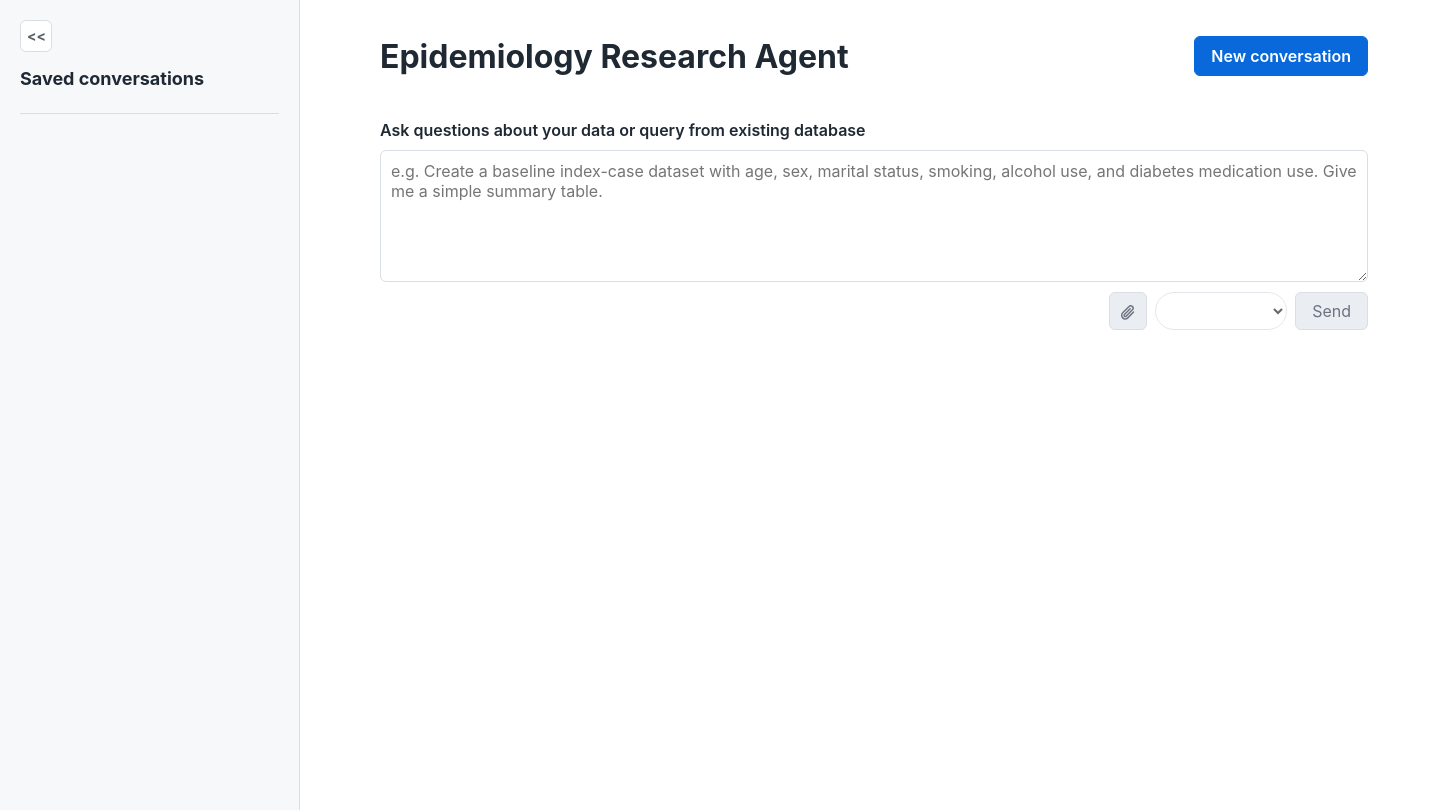
App › shows a safe terminal failure and keeps the composer usable
The width and height of the screenshot is (1440, 810).
Replace the text in the text box named "Ask a question about your dataset!" with "Analyze relapse" at [874, 216], box [380, 150, 1368, 282]
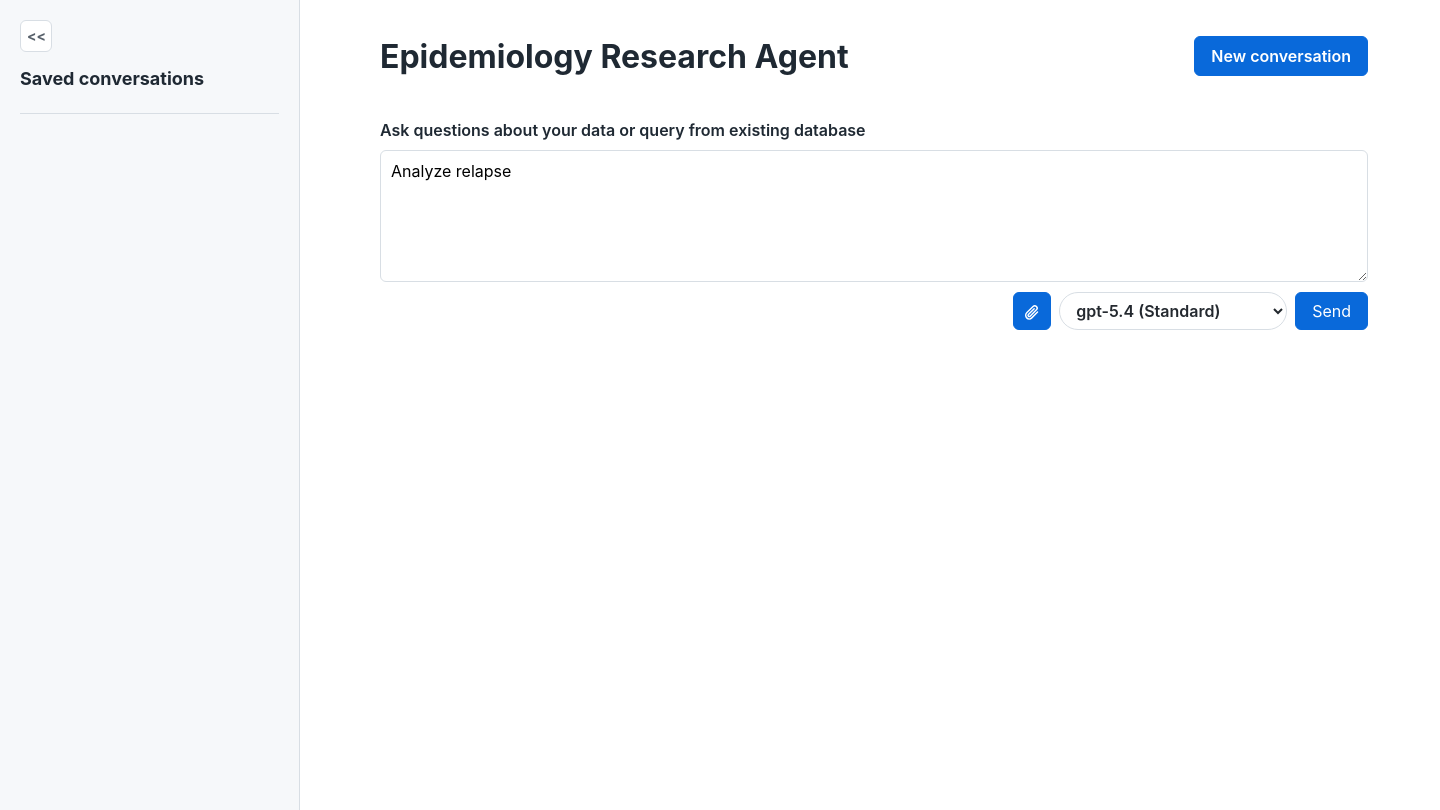
Click the button "Send" at [1332, 311], box [1295, 292, 1368, 330]
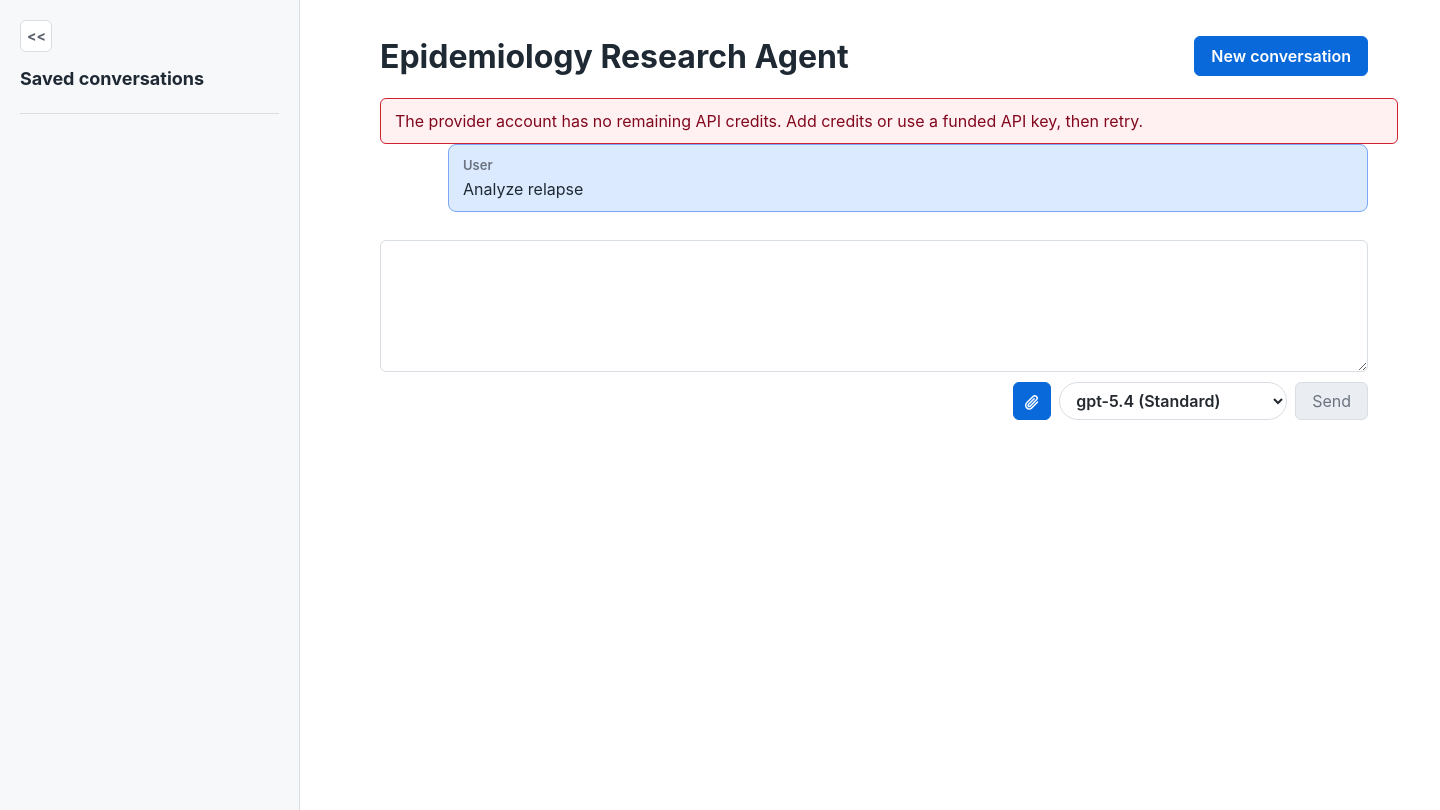
Expected: the text box named "Ask a question about your dataset!" is enabled
Expected: the message shows "no remaining API credits", [395, 111, 1143, 131]
Type "Try again" into the text box named "Ask a question about your dataset!" at [874, 306], box [380, 240, 1368, 372]
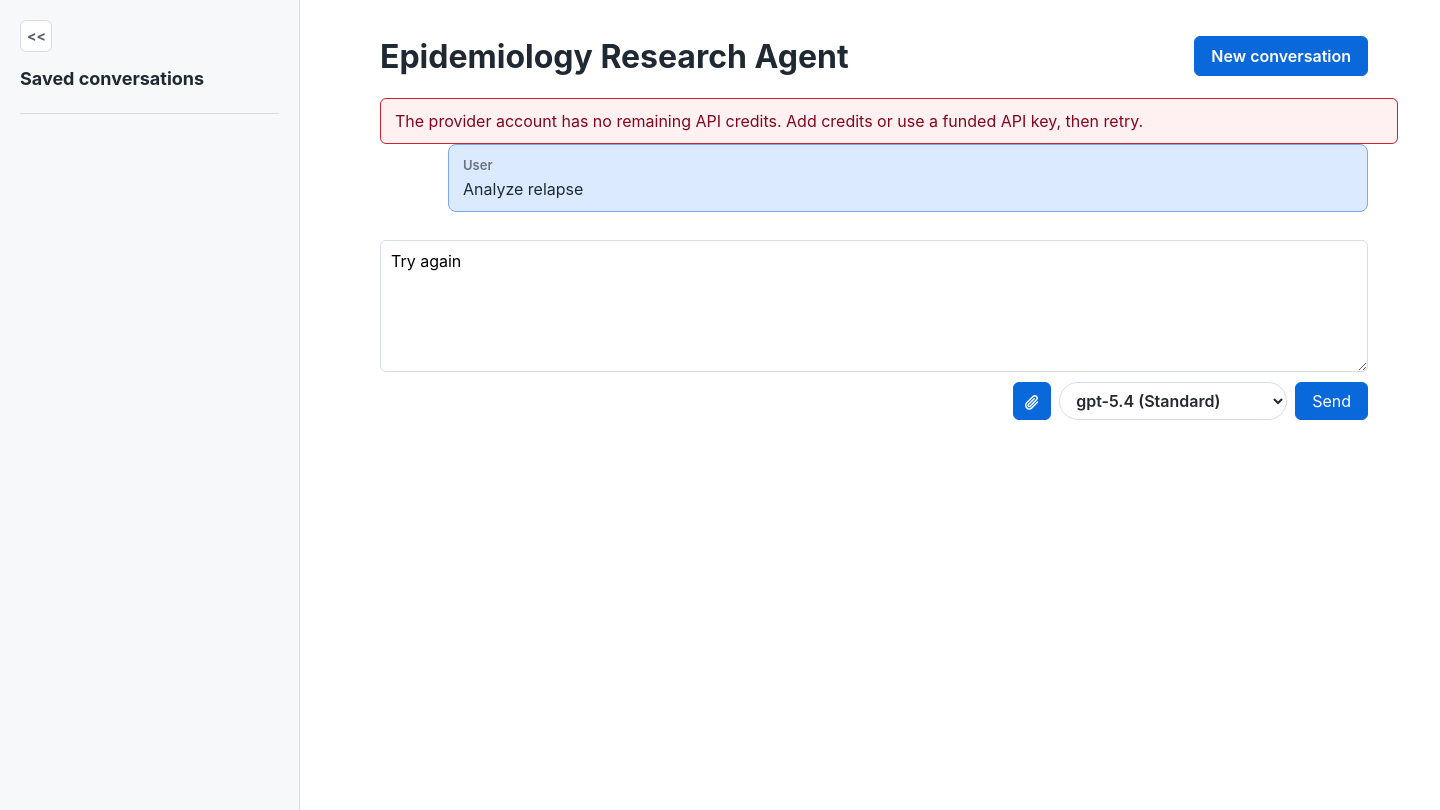
Expected: the button "Send" is enabled, [1295, 382, 1368, 420]
